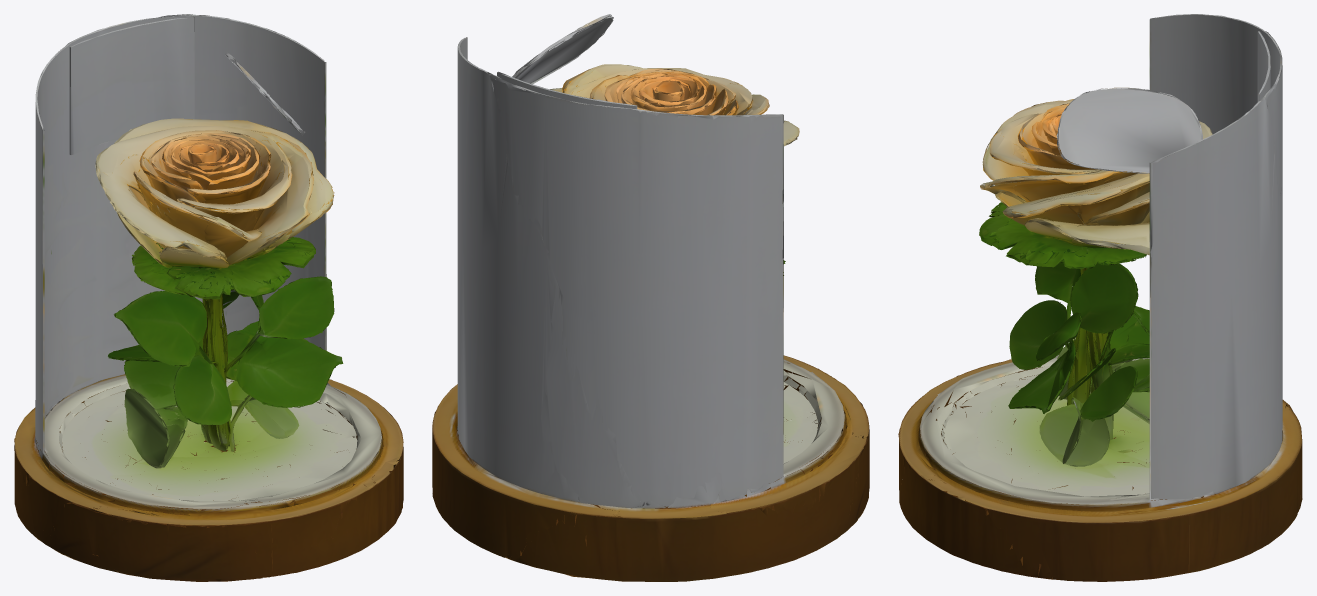
The model's file is hunyuan-glass-dome.glb.
3 views of the same model, side by side, from view 1: azimuth 30°, elevation 25°; view 2: azimuth 150°, elevation 25°; view 3: azimuth 270°, elevation 25° (orthographic). The views are drawn at different scales.
Parts seen in each view (by area): view 1: node_0; view 2: node_0; view 3: node_0.
Part boxes in pixels (box(x1,y1,x2,y2)): node_0: box(14, 14, 403, 581); node_0: box(432, 14, 869, 581); node_0: box(898, 14, 1302, 581).
Bounding box in the file's own units: 0.7805 × 0.9154 × 0.7729.
Materials: 1 (1 with a texture image).
